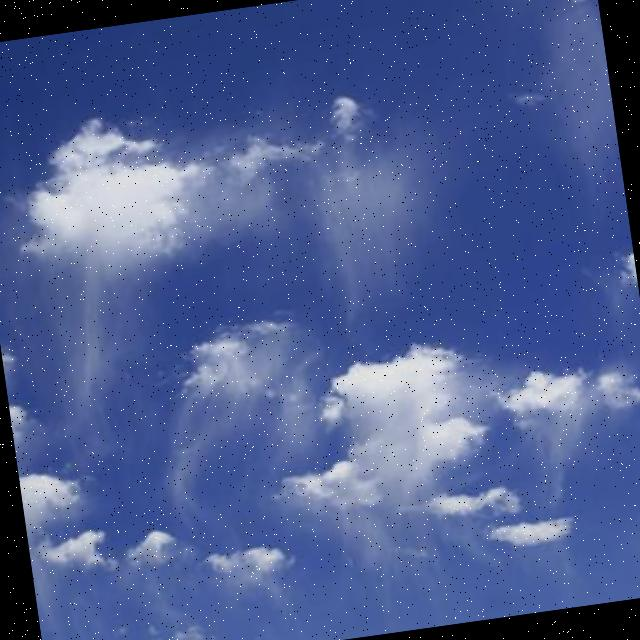Cs: (1, 48, 640, 640)
